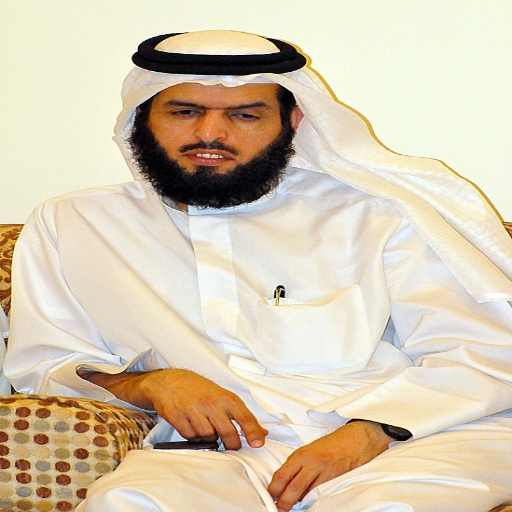hand: (262, 419, 401, 502), (140, 364, 267, 450)
